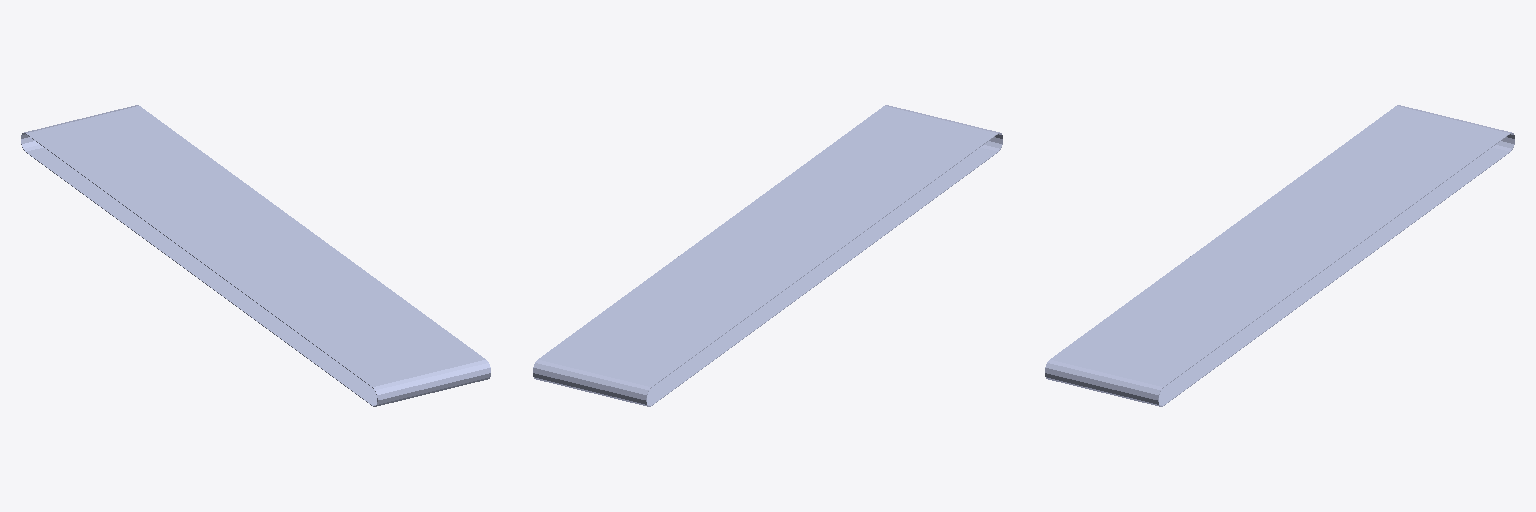
The robot description file, URDF, robot "conveyor":
<?xml version="1.0" encoding="utf-8"?>
<!-- This URDF was automatically created by SolidWorks to URDF Exporter! Originally created by [author] ([email redacted]) 
     Commit Version: 1.6.0-4-g7f85cfe  Build Version: 1.6.7995.38578
     For more information, please see http://wiki.ros.org/sw_urdf_exporter -->

<robot name="conveyor">
  
  <link name="world"/>
  <joint name="conveyor_to_world" type="fixed">
    <parent link="world"/>
    <child link="conveyor_link"/>
    <origin xyz="-2 -2 0.1" rpy="0 0 0"/>
  </joint>
  
  
  <link
    name="conveyor_link">
    <inertial>
      <origin
        xyz="0.0565729421615596 -0.338602755917216 0.273506708879572"
        rpy="0 0 0" />
      <mass
        value="18.686505647015" />
      <inertia
        ixx="1.95348162863018"
        ixy="-4.96657294758975E-05"
        ixz="-2.0670742548802E-05"
        iyy="0.188960211621458"
        iyz="0.000127629943098858"
        izz="1.99896507940277" />
    </inertial>
    <visual>
      <origin
        xyz="0 0 0"
        rpy="0 0 0" />
      <geometry>
        <mesh
          filename="package://environment/meshes/conveyor/conveyor_link.STL" />
      </geometry>
      <material
        name="">
        <color
          rgba="0.792156862745098 0.819607843137255 0.933333333333333 1" />
      </material>
    </visual>
    <collision>
      <origin
        xyz="0 0 0"
        rpy="0 0 0" />
      <geometry>
        <mesh
          filename="package://environment/meshes/conveyor/conveyor_link.STL" />
      </geometry>
    </collision>
  </link>
  <link
    name="belt">
    <inertial>
      <origin
        xyz="1.0565 0 0.2"
        rpy="0 0 0" />
      <mass
        value="3.53662299561806" />
      <inertia
        ixx="0.0504799998691329"
        ixy="-2.16045456069585E-32"
        ixz="1.49433778430058E-16"
        iyy="1.48553274861646"
        iyz="4.62592926927146E-19"
        izz="1.44170280193578" />
    </inertial>
    <visual>
      <origin
        xyz="0 0 0"
        rpy="0 0 0" />
      <geometry>
        <mesh
          filename="package://environment/meshes/conveyor/belt.STL" />
      </geometry>
      <material
        name="">
        <color
          rgba="0.792156862745098 0.819607843137255 0.933333333333333 1" />
      </material>
    </visual>
    <collision>
      <origin
        xyz="0 0 0"
        rpy="0 0 0" />
      <geometry>
        <mesh
          filename="package://environment/meshes/conveyor/belt.STL" />
      </geometry>
    </collision>
  </link>
  <joint
    name="belt"
    type="fixed">
    <origin
      xyz="-0.241229392828482 -1.07757386726348 0.401876129111459"
      rpy="1.5707963267949 0 1.5707963267949" />
    <parent
      link="conveyor_link" />
    <child
      link="belt" />
    <axis
      xyz="0 0 0" />
  </joint>
  <gazebo>
    <plugin name="gazebo_ros_control" filename="libgazebo_ros_control.so">
      <robotNamespace>/conveyor</robotNamespace> 
    </plugin>

    <plugin name="gazebo_ros_p3d" filename="libgazebo_ros_p3d.so">
      <robotNamespace>/conveyor</robotNamespace>
      <bodyName>conveyor_link</bodyName>
      <frameName>world</frameName>
      <updateRate>50.0</updateRate>
      <topicName>/conveyor/tf</topicName> 
    </plugin>
  </gazebo>

</robot>

--- What the picture shows (computed from the rendered views, not written in the file) ---
The picture shows the robot from 3 angles, left to right: view 1: azimuth 30°, elevation 25°; view 2: azimuth 150°, elevation 25°; view 3: azimuth 330°, elevation 25°; orthographic projection.
Robot: conveyor — 3 links, 2 joints (2 fixed); root link world; default pose: all joints at 0.
Links seen in each view (by area): view 1: conveyor_link, belt; view 2: conveyor_link, belt; view 3: conveyor_link, belt.
Boxes of the visible links, x1,y1,x2,y2 form: conveyor_link: (21,105,490,406); belt: (21,134,488,406); conveyor_link: (533,105,1002,406); belt: (648,135,1002,401); conveyor_link: (1045,105,1514,406); belt: (1053,133,1514,405).
Bounding box of the posed robot: 0.4 × 2.18 × 0.064 m (x, y, z).
Meshes: 2 distinct files referenced, 2 mesh visuals loaded (2 binary STL).